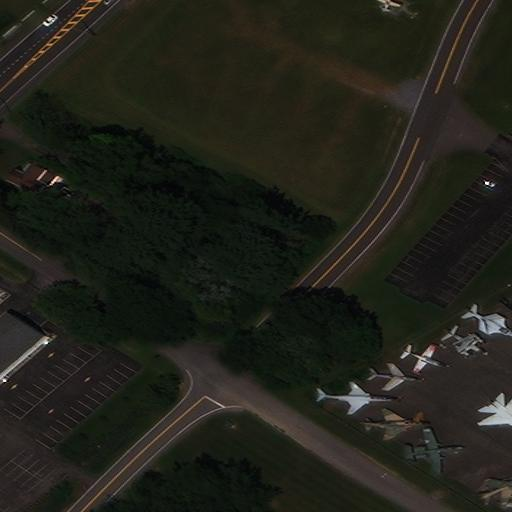Military Bomber: (442, 329, 488, 357)
Military Fighter: (314, 382, 398, 415), (403, 428, 464, 473), (358, 407, 430, 440), (368, 363, 417, 390), (479, 396, 511, 434), (479, 475, 511, 503)
Military Trainer: (399, 346, 446, 372)
Military Transport: (465, 308, 511, 336)
Small Civil Transport: (377, 0, 401, 12)
